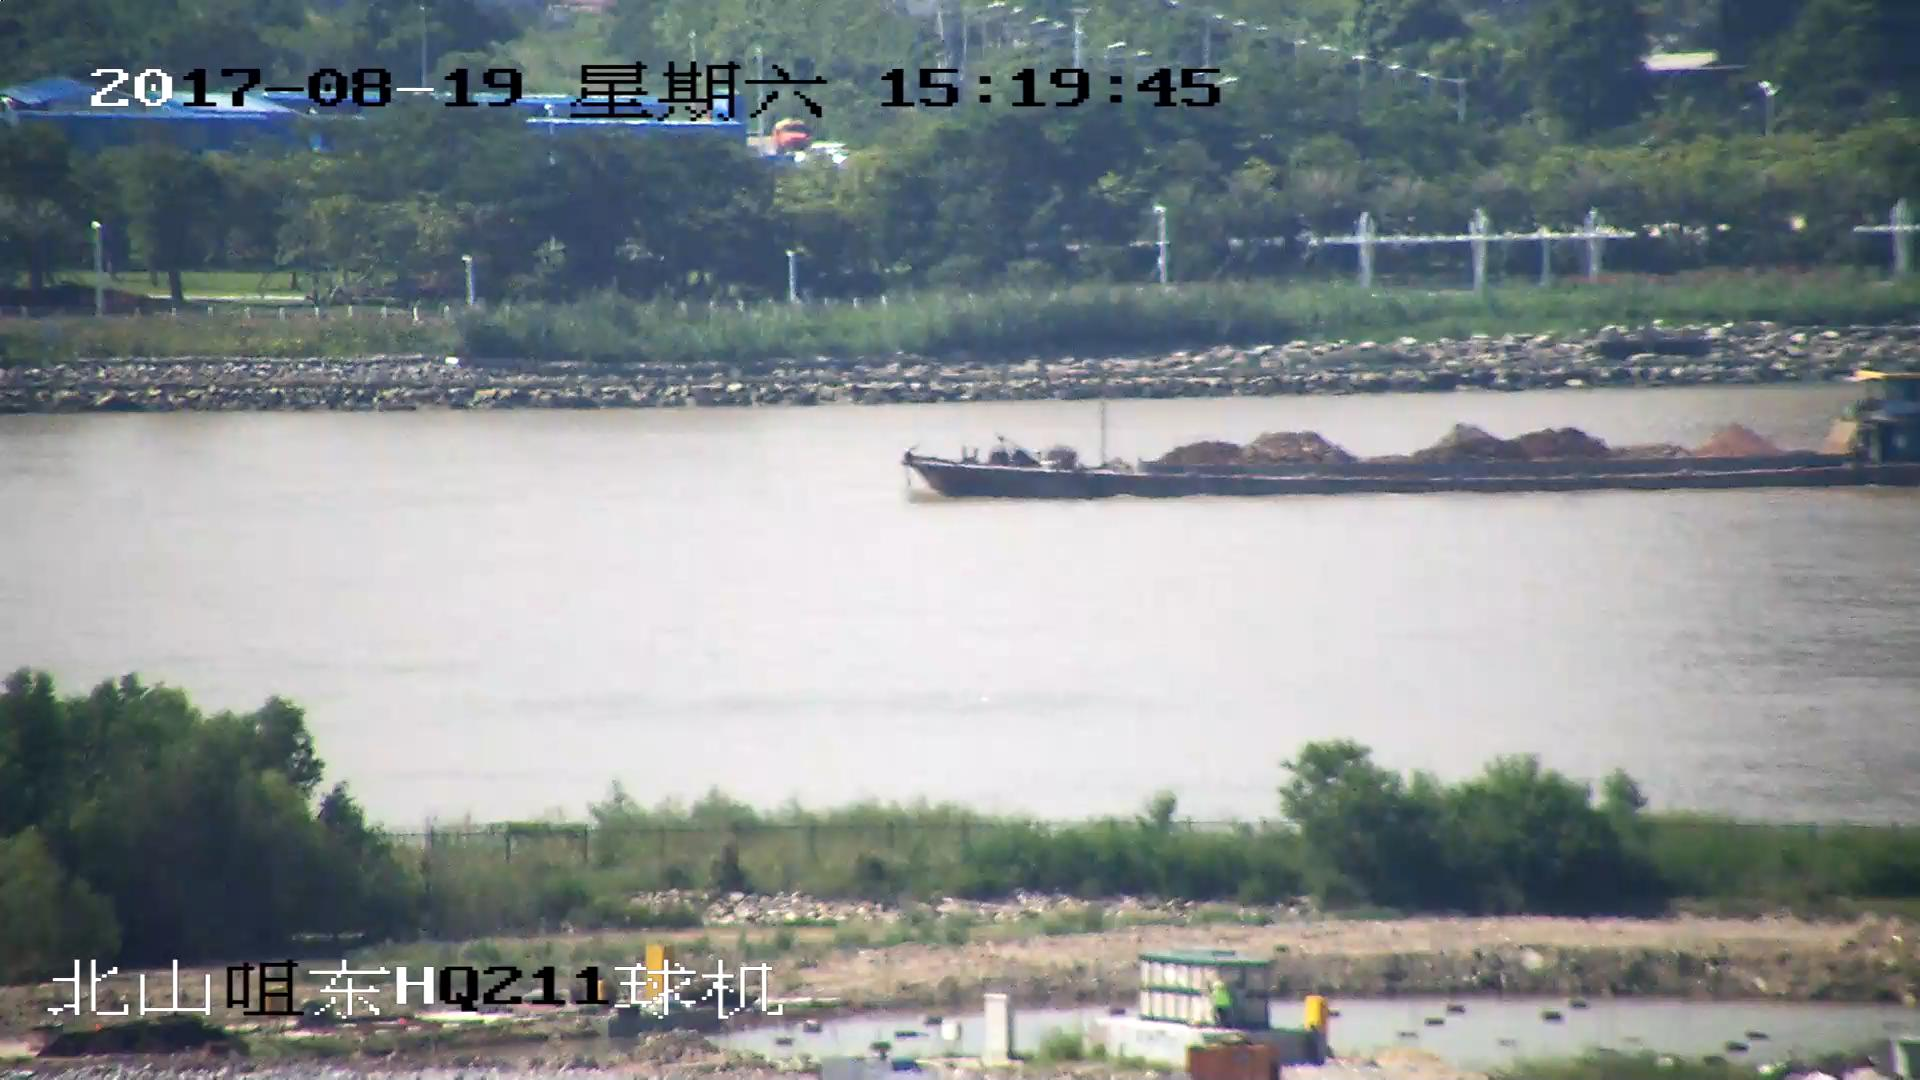ore carrier: (904, 372, 1920, 500)
